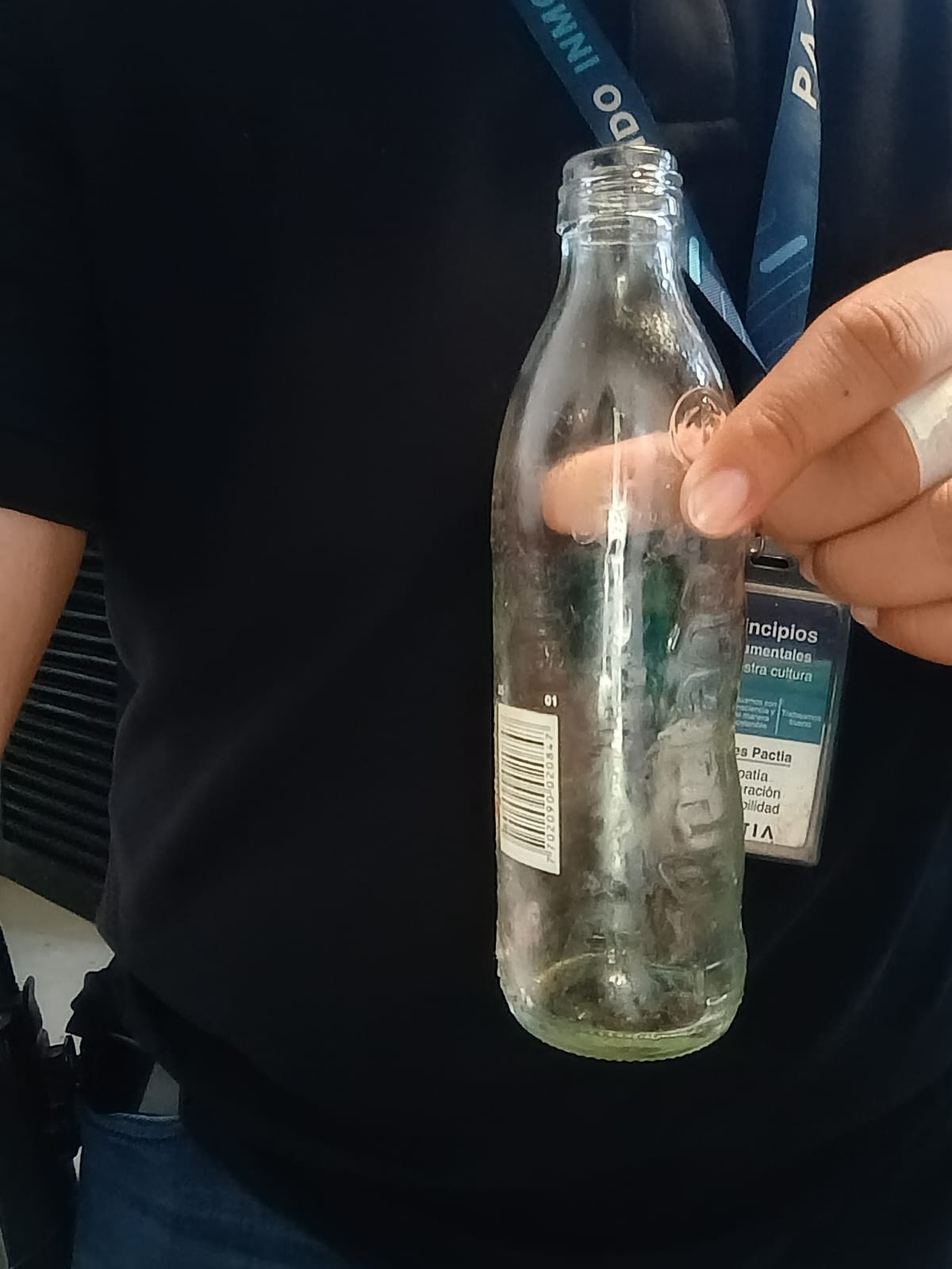Vidrio: (494, 147, 752, 1058)
